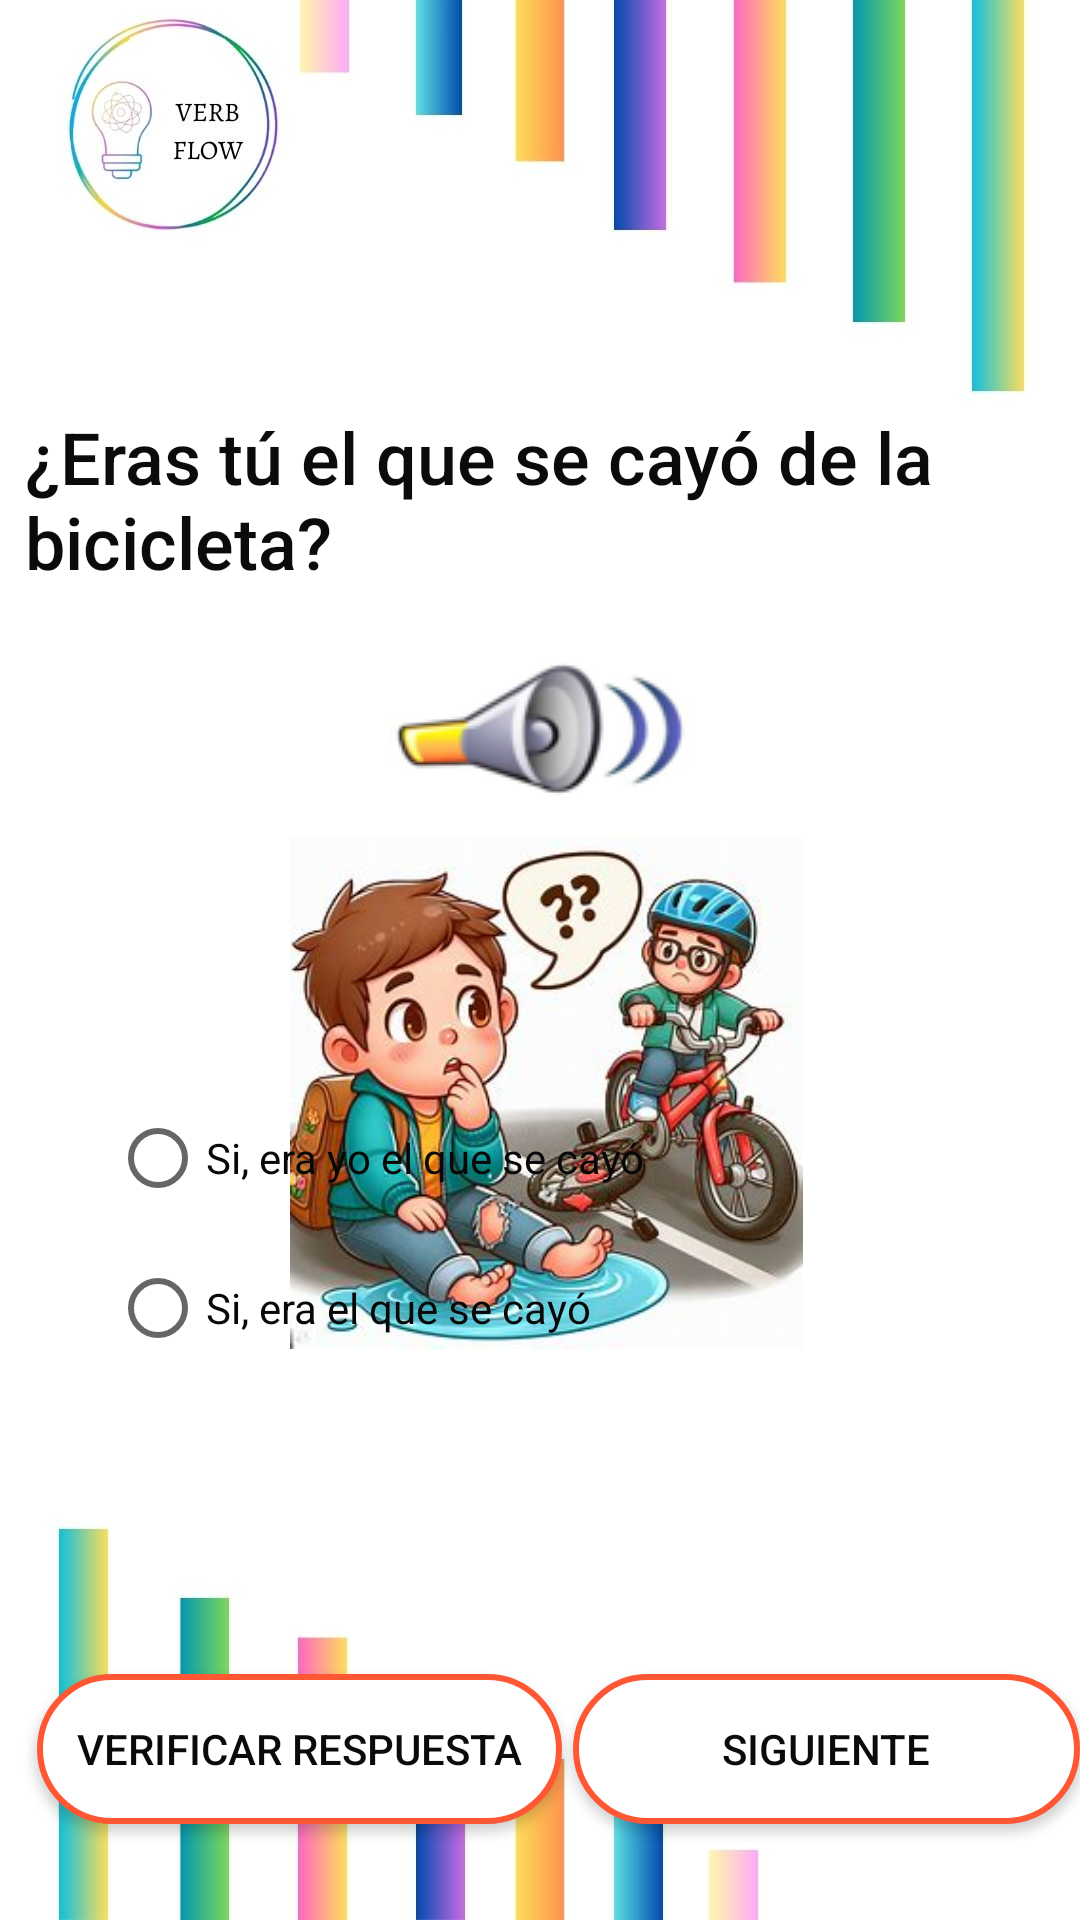

Screen size 1080*1920. Icon name, then its center in pixels as [x,y]:
altavoz: [539,729]
